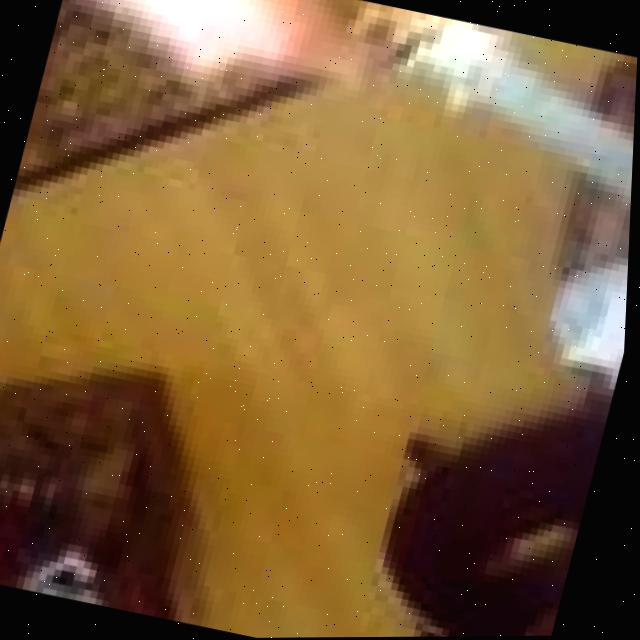knife: (298, 0, 640, 225)
